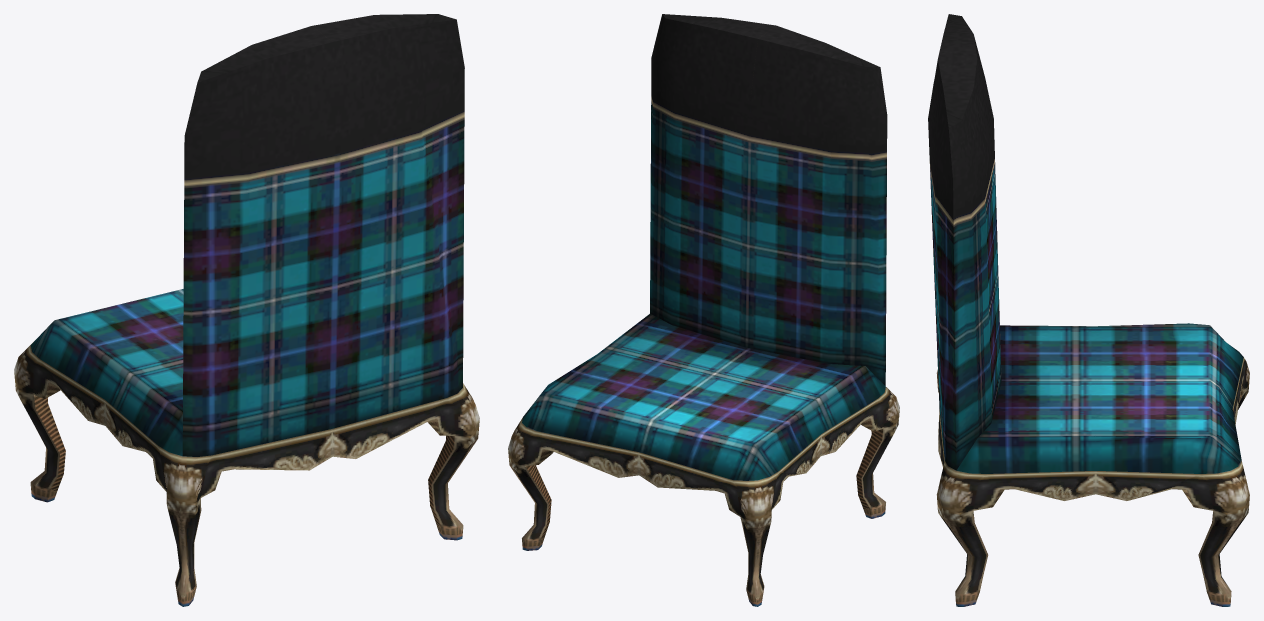
File: furni_0200314_02.FBX
3 views of the same model, side by side, from view 1: azimuth 30°, elevation 25°; view 2: azimuth 150°, elevation 25°; view 3: azimuth 270°, elevation 25° (orthographic). The views are drawn at different scales.
Parts seen in each view (by area): view 1: furni_0200314_02; view 2: furni_0200314_02; view 3: furni_0200314_02.
Boxes of the visible parts, bbox=[...] form: furni_0200314_02: bbox=[14, 14, 479, 606]; furni_0200314_02: bbox=[508, 14, 899, 606]; furni_0200314_02: bbox=[928, 14, 1249, 606].
Size of the model in its own units: 80.4 by 134 by 80.29.
